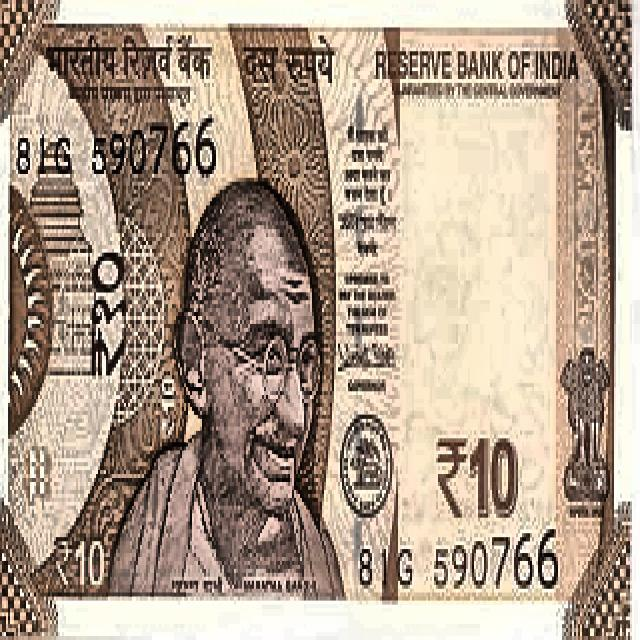-10-: (2, 2, 633, 602)
